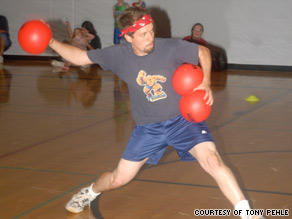red ball: (18, 20, 53, 54), (179, 89, 211, 123), (173, 63, 204, 95)
